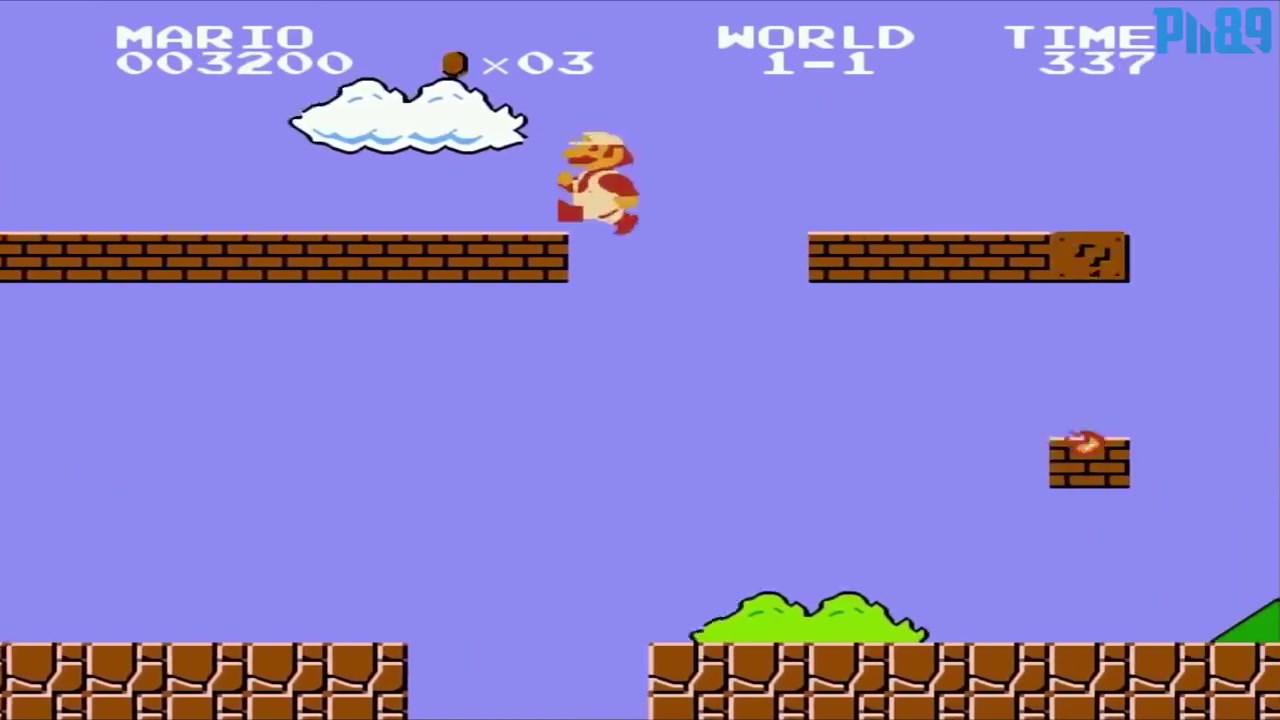mario: (554, 127, 643, 239)
